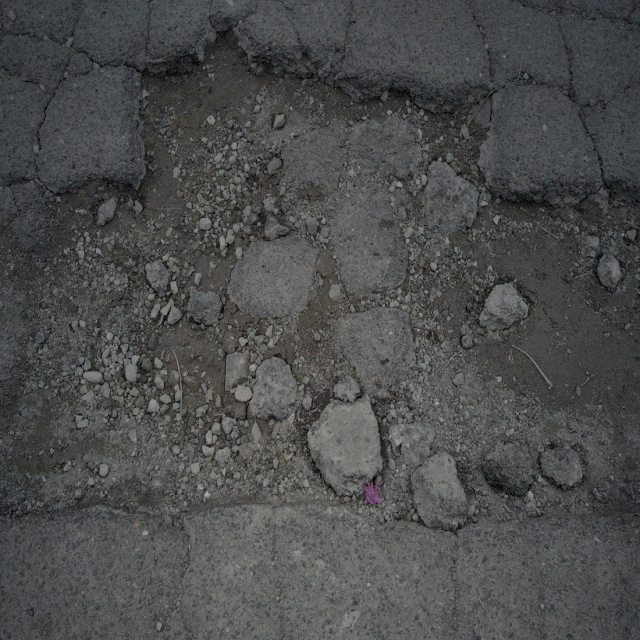pothole: (13, 19, 600, 565)
